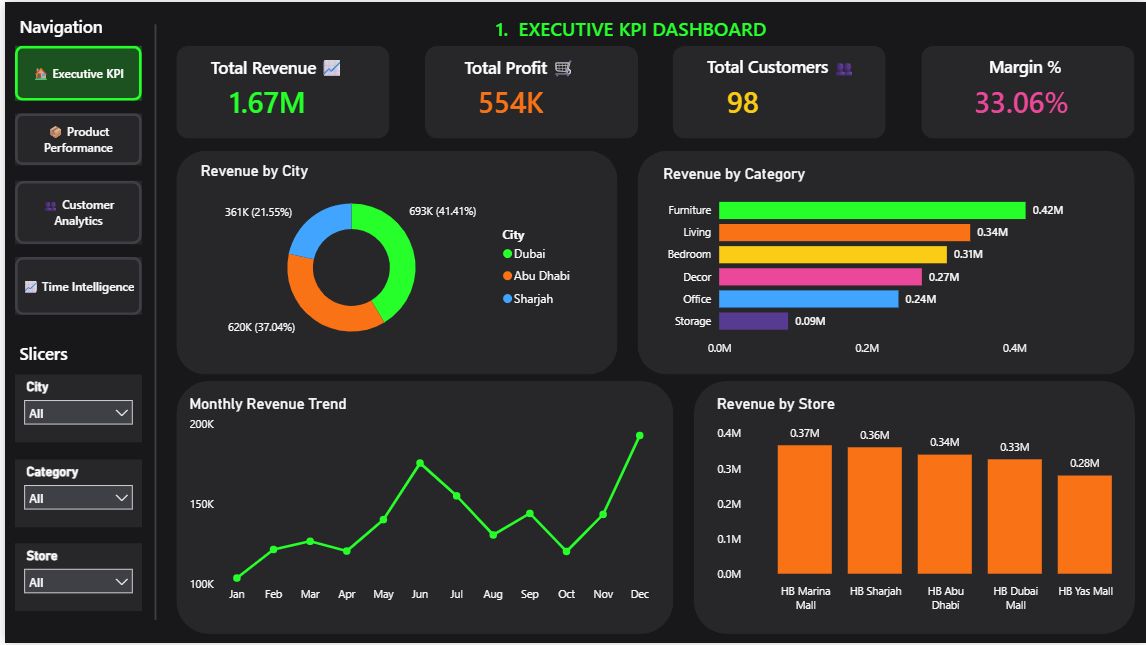

This screenshot's page, from the dashboard's own definition file:
{"tool":"powerbi","page":{"name":"Executive KPI","canvas":[1280,720],"ordinal":1},"visuals":[{"type":"textbox","box":[10.7,9.5,118.4,40.3],"z":0},{"type":"actionButton","box":[10.7,49.7,142.1,61.6],"z":1000},{"type":"actionButton","box":[10.7,124.4,142.1,58],"z":2000},{"type":"actionButton","box":[10.7,200.1,142.1,71.1],"z":3000},{"type":"actionButton","box":[10.7,286.6,142.1,65.1],"z":4000},{"type":"textbox","box":[10.7,377.8,118.4,40.3],"z":5000},{"type":"slicer","fields":{"Values":["Fact_Sales.City"]},"box":[10.7,418.1,142.1,75.8],"z":6000},{"type":"slicer","fields":{"Values":["Fact_Sales.Category"]},"box":[10.7,512.8,142.1,75.8],"z":7000},{"type":"slicer","fields":{"Values":["Fact_Sales.Store"]},"box":[10.7,607.5,142.1,75.8],"z":8000},{"type":"shape","box":[99.5,24.9,138.6,667.9],"z":9000},{"type":"textbox","box":[183.6,9.5,1037.5,40.3],"z":10000},{"type":"shape","box":[191.9,49.7,239.2,104.2],"z":11000},{"type":"cardVisual","fields":{"Data":["Fact_Sales.Total_Revenue"]},"box":[214.4,55.7,193,92.4],"z":12000},{"type":"textbox","box":[226.2,55.7,193,41.5],"z":13000},{"type":"shape","box":[470.6,49.7,239.2,104.2],"z":14000},{"type":"shape","box":[749.3,49.7,239.2,104.2],"z":15000},{"type":"shape","box":[1028,49.7,239.2,104.2],"z":16000},{"type":"cardVisual","fields":{"Data":["Fact_Sales.Total_Profit"]},"box":[493.9,55.7,193,92.4],"z":17000},{"type":"cardVisual","fields":{"Data":["Fact_Sales.Total_Customers"]},"box":[773.4,55.7,193,92.4],"z":18000},{"type":"cardVisual","fields":{"Data":["Fact_Sales.Margin %"]},"box":[1050.5,55.7,193,92.4],"z":19000},{"type":"textbox","box":[510.4,55.7,191.9,41.5],"z":20000},{"type":"textbox","box":[782.8,54.5,193,41.5],"z":21000},{"type":"textbox","box":[1050.5,54.5,193,41.5],"z":22000},{"type":"shape","box":[191.9,167,495,251.1],"z":23000},{"type":"shape","box":[709.4,167,557.8,251.1],"z":24000},{"type":"shape","box":[773.4,425.2,495,284.2],"z":25000},{"type":"shape","box":[191.9,425.2,557.8,284.2],"z":26000},{"type":"clusteredBarChart","title":"Revenue by Category","fields":{"Category":["Fact_Sales.Category"],"Y":["Fact_Sales.Total_Revenue"]},"box":[733.1,182.4,501,225],"z":27000},{"type":"donutChart","title":"Revenue by City","fields":{"Category":["Fact_Sales.City"],"Y":["Fact_Sales.Total_Revenue"]},"box":[214.4,180,433.5,217.9],"z":28000},{"type":"lineChart","title":"Monthly Revenue Trend ","fields":{"Category":["Calendar.Month"],"Y":["Fact_Sales.Total_Revenue"]},"box":[201.3,440.6,531.8,242.8],"z":29000},{"type":"columnChart","title":"Revenue by Store","fields":{"Category":["Fact_Sales.Store"],"Y":["Fact_Sales.Total_Revenue"]},"box":[793.5,440.6,486.8,252.3],"z":30000}]}

Visuals, with their boxes in screenshot pixels (x1, y1, x2, y2), scaled from the page's 1280x720 canvas onto the 1146x645 screenshot:
textbox: <region>10, 9, 116, 45</region>
actionButton: <region>10, 45, 137, 100</region>
actionButton: <region>10, 111, 137, 163</region>
actionButton: <region>10, 179, 137, 243</region>
actionButton: <region>10, 257, 137, 315</region>
textbox: <region>10, 338, 116, 375</region>
slicer - Fact_Sales.City: <region>10, 375, 137, 442</region>
slicer - Fact_Sales.Category: <region>10, 459, 137, 527</region>
slicer - Fact_Sales.Store: <region>10, 544, 137, 612</region>
shape: <region>89, 22, 213, 621</region>
textbox: <region>164, 9, 1093, 45</region>
shape: <region>172, 45, 386, 138</region>
cardVisual - Fact_Sales.Total_Revenue: <region>192, 50, 365, 133</region>
textbox: <region>203, 50, 375, 87</region>
shape: <region>421, 45, 635, 138</region>
shape: <region>671, 45, 885, 138</region>
shape: <region>920, 45, 1135, 138</region>
cardVisual - Fact_Sales.Total_Profit: <region>442, 50, 615, 133</region>
cardVisual - Fact_Sales.Total_Customers: <region>692, 50, 865, 133</region>
cardVisual - Fact_Sales.Margin %: <region>941, 50, 1113, 133</region>
textbox: <region>457, 50, 629, 87</region>
textbox: <region>701, 49, 874, 86</region>
textbox: <region>941, 49, 1113, 86</region>
shape: <region>172, 150, 615, 375</region>
shape: <region>635, 150, 1135, 375</region>
shape: <region>692, 381, 1136, 636</region>
shape: <region>172, 381, 671, 636</region>
"Revenue by Category" clusteredBarChart: <region>656, 163, 1105, 365</region>
"Revenue by City" donutChart: <region>192, 161, 580, 356</region>
"Monthly Revenue Trend " lineChart: <region>180, 395, 656, 612</region>
"Revenue by Store" columnChart: <region>710, 395, 1145, 621</region>
